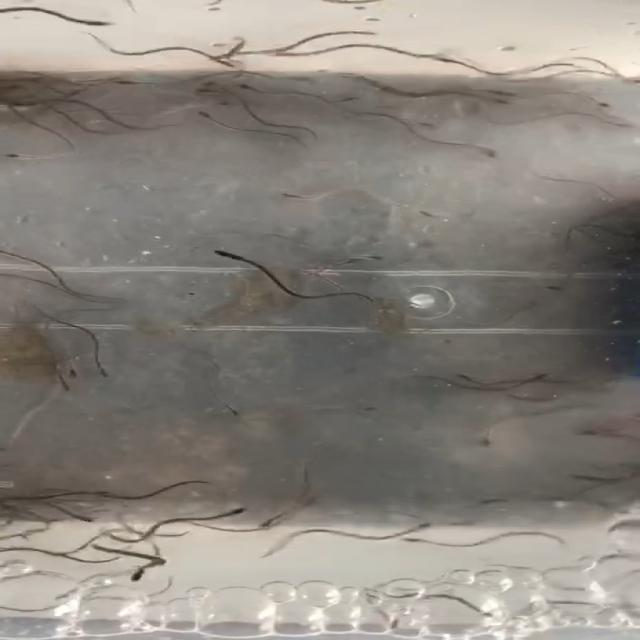active_glass_eel: (560, 88, 612, 112), (210, 402, 256, 425), (38, 374, 86, 393), (581, 69, 634, 86), (396, 203, 441, 222), (401, 114, 442, 134), (278, 180, 314, 202), (82, 475, 113, 500), (179, 90, 226, 106), (0, 75, 52, 89), (466, 144, 504, 163), (42, 88, 87, 104), (123, 571, 162, 589), (388, 534, 438, 548), (267, 45, 305, 62), (209, 247, 255, 261), (392, 521, 438, 535), (448, 59, 491, 73), (247, 80, 290, 94), (474, 90, 512, 105), (90, 357, 112, 382), (211, 34, 241, 51), (82, 15, 112, 32), (524, 280, 562, 293), (195, 108, 222, 126), (66, 512, 100, 526), (450, 372, 476, 390), (576, 112, 612, 125), (171, 80, 200, 96), (206, 60, 238, 74), (263, 513, 299, 525), (516, 371, 549, 384), (221, 504, 251, 518), (343, 252, 388, 261), (0, 150, 32, 162), (349, 406, 381, 418), (110, 78, 138, 91), (58, 550, 88, 558)
